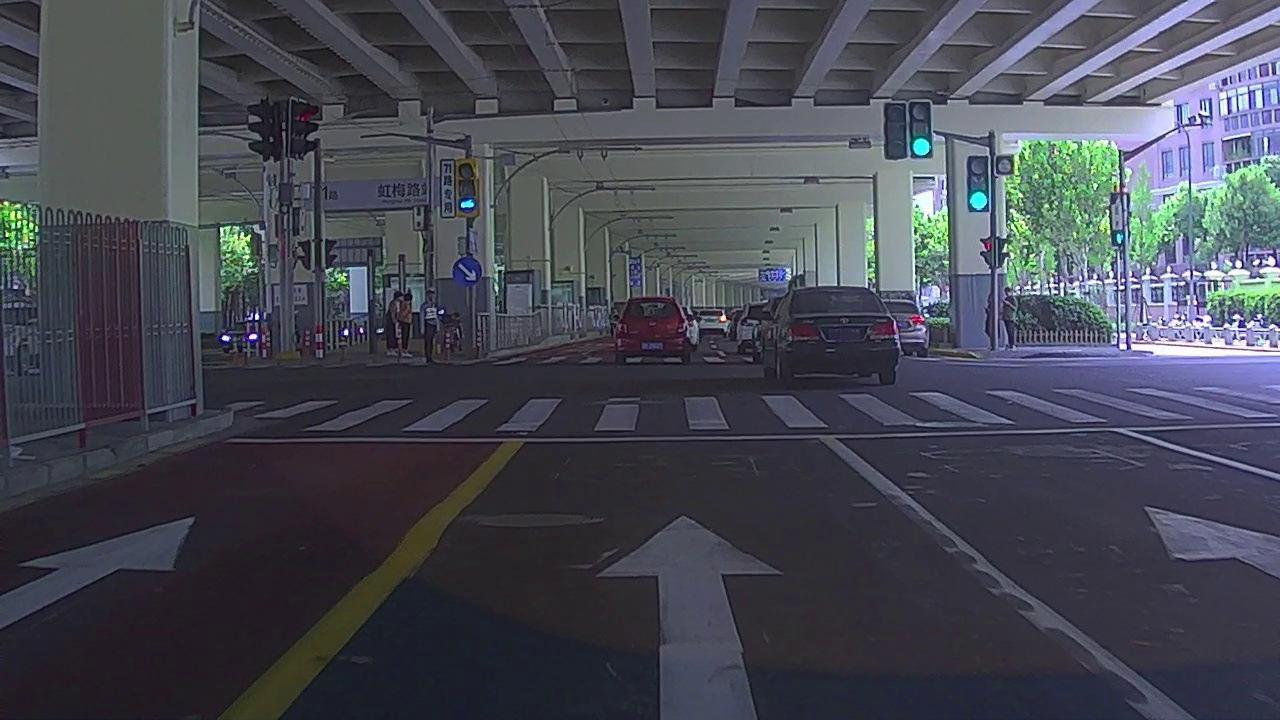traffic_light: (908, 102, 932, 158), (967, 155, 989, 214), (885, 103, 907, 159)
